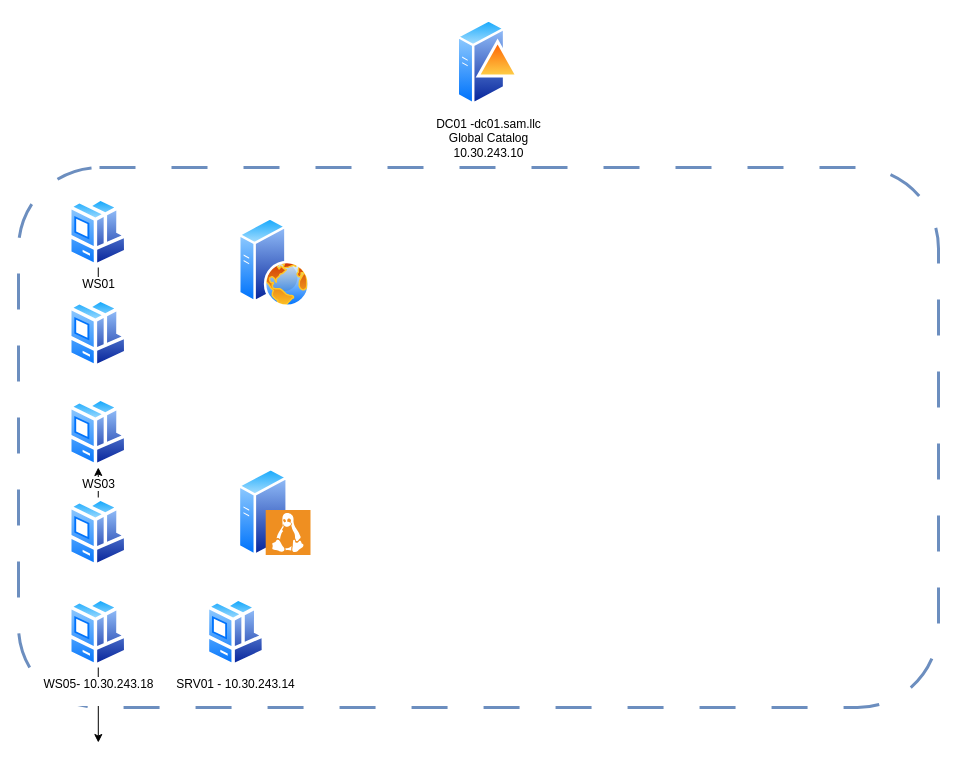
This 957x768 diagram has some shape labels left out. Each missing label, with the centre of its shape:
"Web01 - 10.30.243.12" goes at (274,262).
"WS02" goes at (98,333).
"WS04" goes at (98,532).
